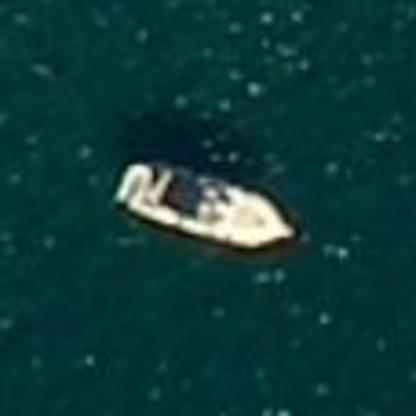ship: (101, 151, 300, 253)
